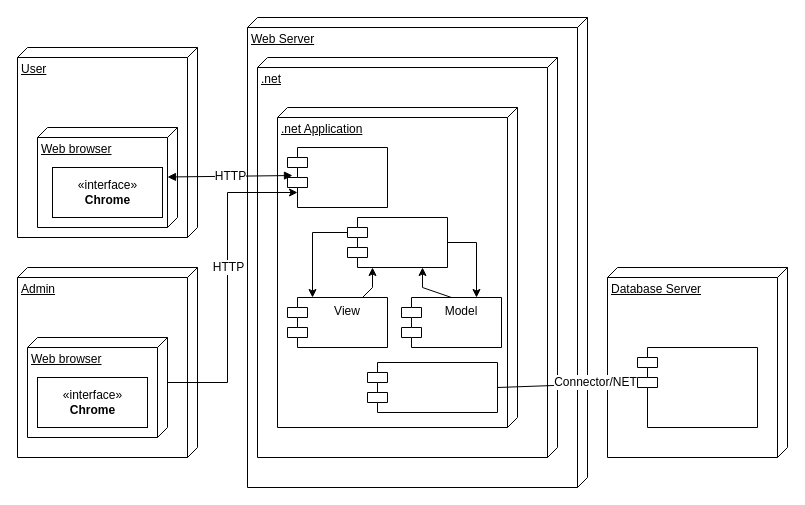
The diagram is 805 pixels wide and 505 high, and some of its shapes have lost their labels. Here are the shapes that lost their labels. From the top down, the centre of each, then its label:
At (337,177): "Web interface".
At (397,242): "Controller".
At (432,387): "Database Interface".
At (697,387): "MySQL".
